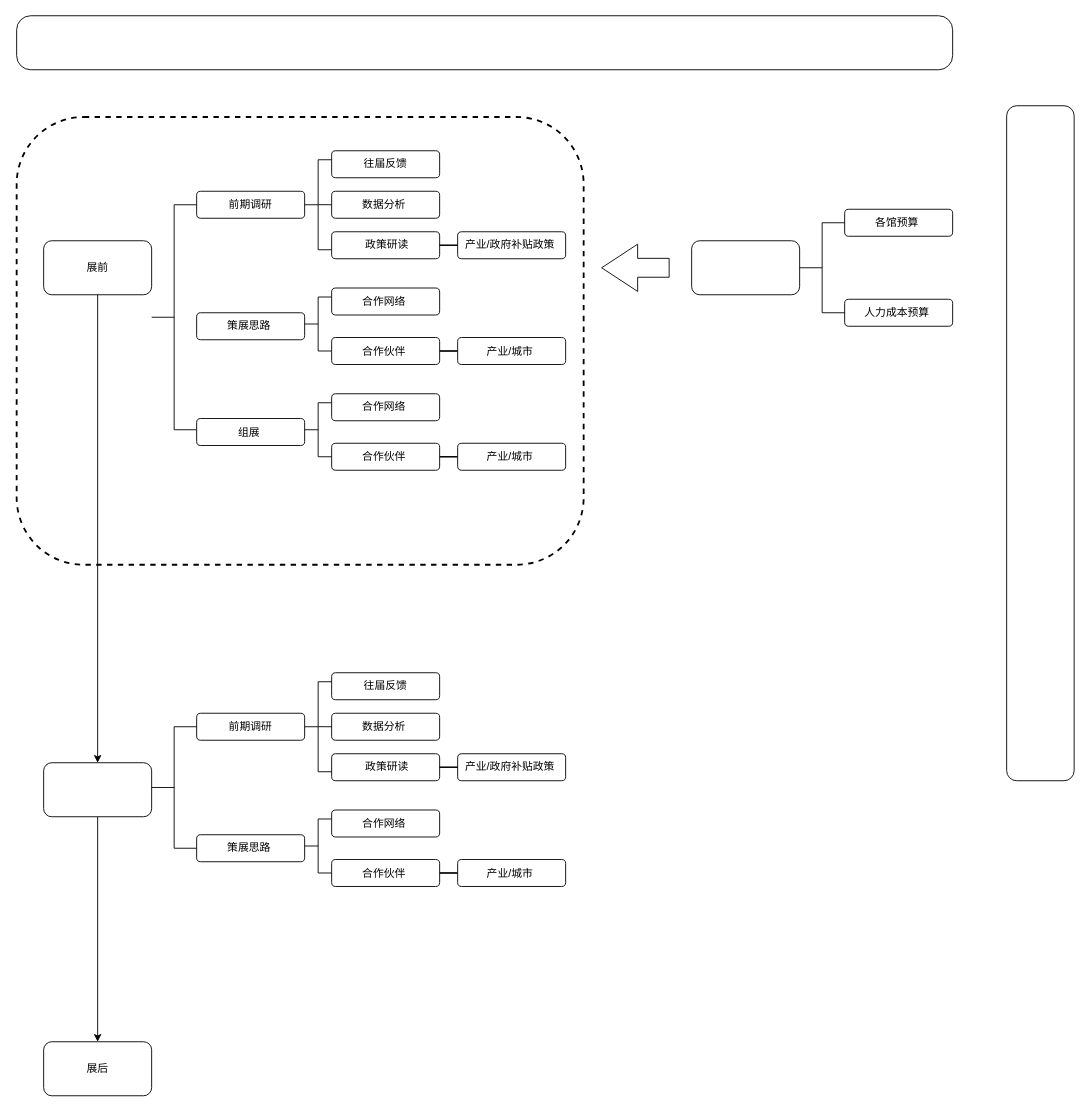
Image size: 1090x1112. Some labels were removed from this diagram. The shapes that lost their labels are listed below. From the top down, each one's centre as x and y in pixels, then its label:
At pixel 484 42: "数贸会展商服务SOP".
At pixel 635 267: "财务介入".
At pixel 745 267: "财务".
At pixel 1040 443: "全周期运营".
At pixel 97 789: "展中".
